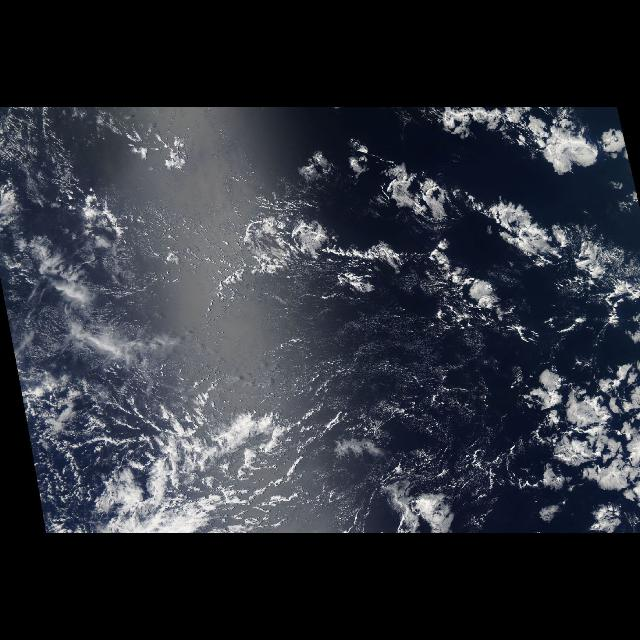Fish: (18, 381, 324, 534)
Flower: (250, 107, 640, 343), (504, 345, 640, 533)
Gravel: (3, 113, 115, 195)
Sugar: (278, 297, 504, 528)
